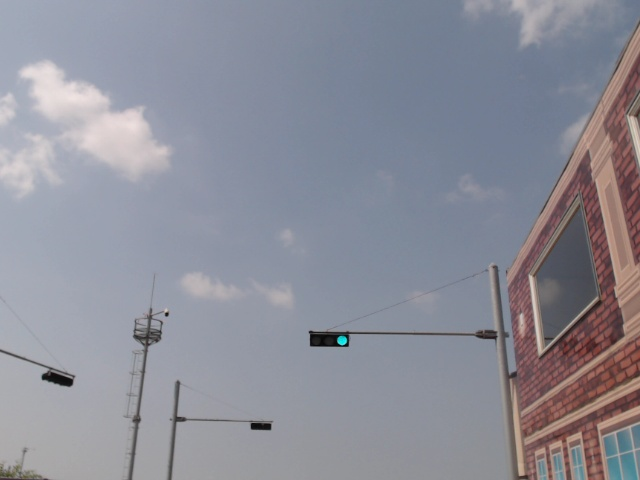green_3: (309, 333, 350, 347)
